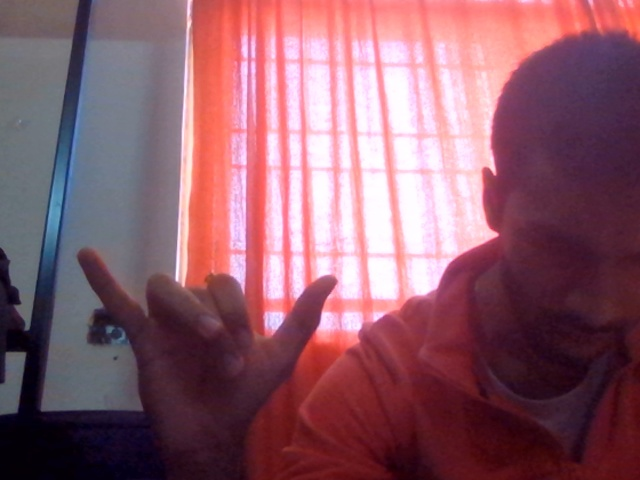Y: (79, 233, 395, 480)
